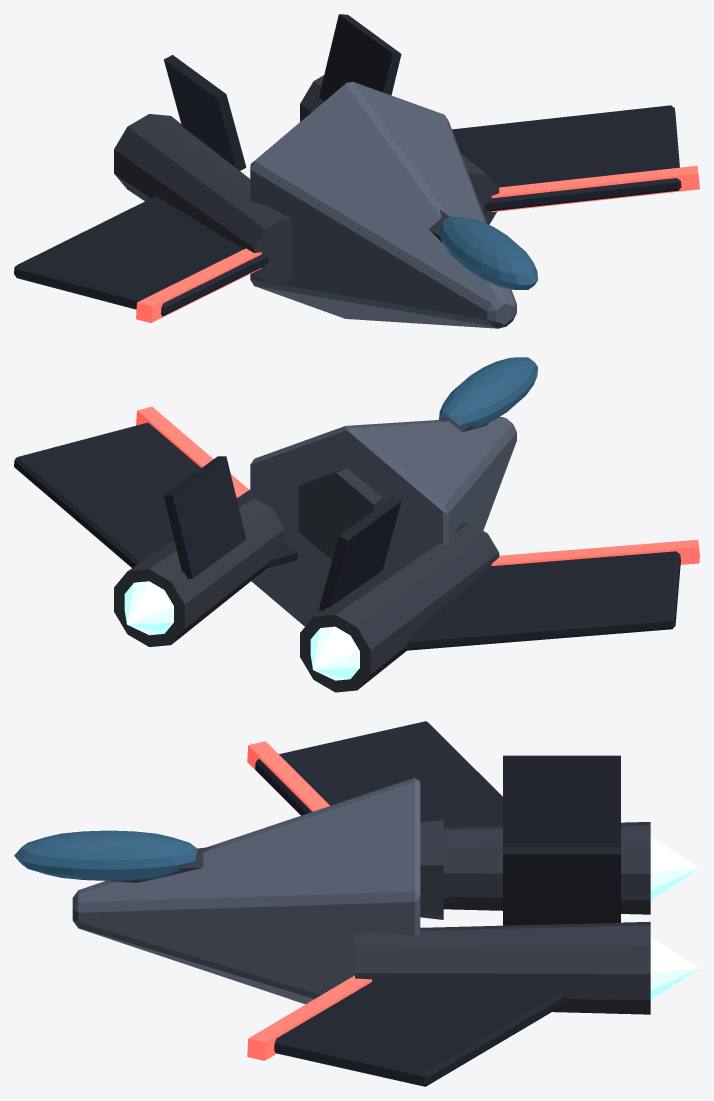
The model's file is frigate.glb.
3 views of the same model, one above another, from view 1: azimuth 30°, elevation 25°; view 2: azimuth 150°, elevation 25°; view 3: azimuth 270°, elevation 25° (orthographic). The views are drawn at different scales.
Visible parts, largest first — view 1: frigate; view 2: frigate; view 3: frigate.
Part boxes in pixels (left/top/right/bottom): frigate: left=14, top=14, right=699, bottom=328; frigate: left=14, top=357, right=699, bottom=692; frigate: left=14, top=721, right=699, bottom=1086.
Bounding box in the file's own units: 4.26 × 1.45 × 3.48.
Materials: 1 (1 with a texture image).
